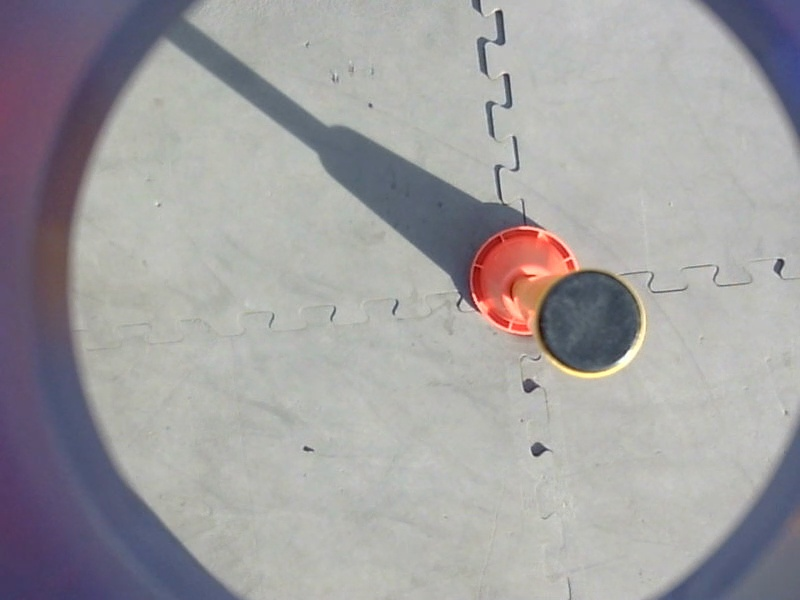tip: (527, 264, 653, 383)
